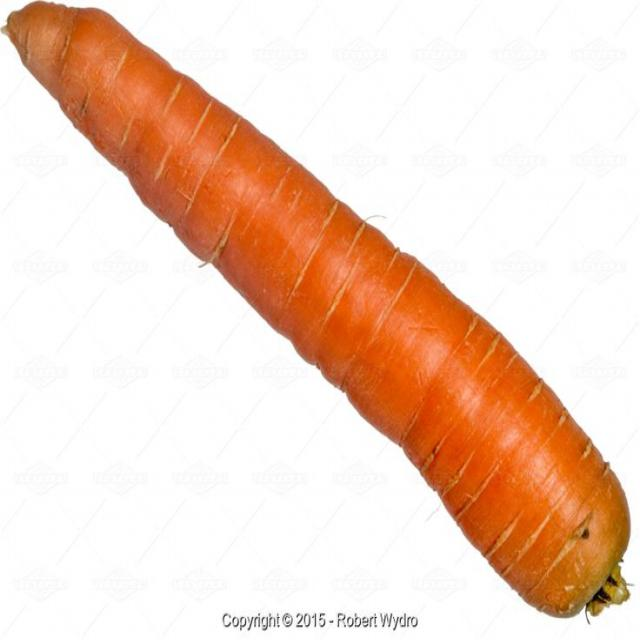Carrot: (8, 5, 637, 622)
